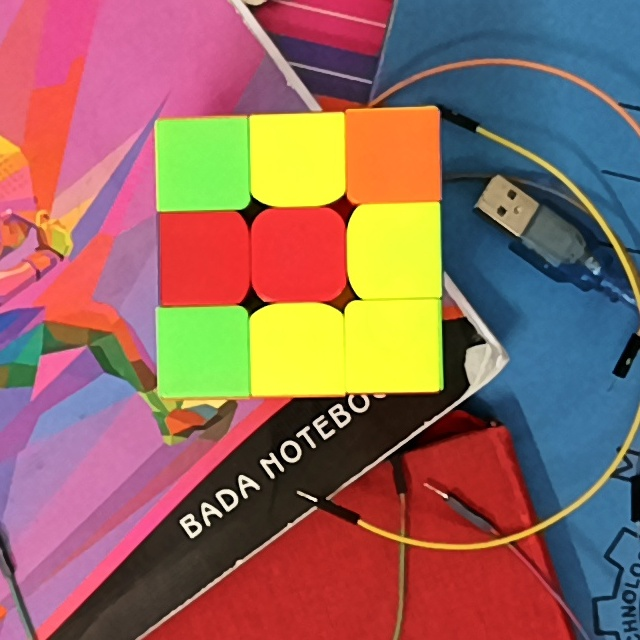tile: (354, 113, 436, 195), (354, 305, 438, 384), (165, 217, 242, 298), (161, 126, 243, 202), (162, 312, 243, 387), (257, 315, 337, 389), (256, 121, 339, 192), (260, 218, 336, 293), (362, 213, 434, 288)
